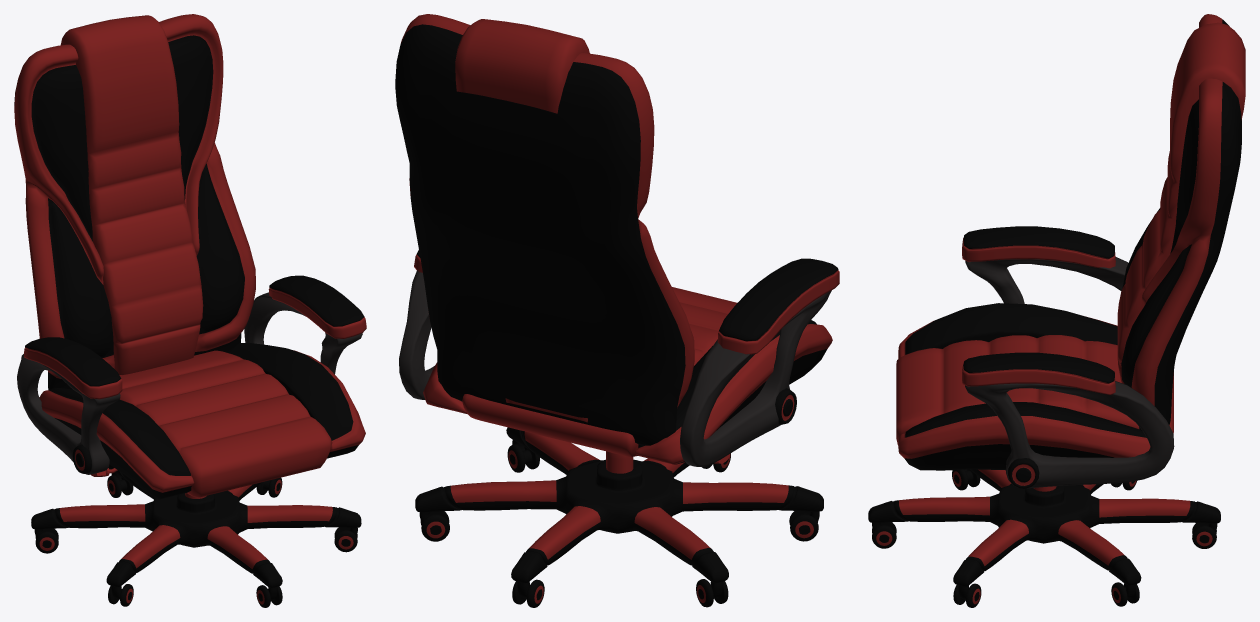
The model's file is chair.glb.
3 renders of one model, left to right at view 1: azimuth 30°, elevation 25°; view 2: azimuth 150°, elevation 25°; view 3: azimuth 270°, elevation 25°, orthographic. The views are drawn at different scales.
Visible parts, largest first — view 1: Box013_ss_0, Box013_04 - Default_0, Box018_ss_0, Box013_Material #14_0, Box018_Material #15_0, Box019_Material #15_0, Cylinder017, Cylinder022, Box019_Material #17_0, Box018_Material #17_0; view 2: Box013_04 - Default_0, Cylinder017, Box019_Material #15_0, Box013_ss_0, Box019_Material #17_0, Box018_ss_0, Box013_Material #14_0, Box018_Material #17_0, Cylinder022, Box018_Material #15_0, Cylinder020_Material #16_0, Cylinder018_Material #16_0 (+1 smaller); view 3: Cylinder022, Box018_Material #15_0, Box018_ss_0, Box013_ss_0, Box019_Material #15_0, Box013_04 - Default_0, Box013_Material #14_0, Cylinder017, Box018_Material #17_0, Box019_Material #17_0, Cylinder025, Cylinder024.
Part boxes in pixels (x1,y1,x2,y2): Box013_ss_0: (60,15,203,374); Box013_04 - Default_0: (14,35,244,390); Box018_ss_0: (119,350,332,497); Box013_Material #14_0: (14,14,255,378); Box018_Material #15_0: (49,343,358,499); Box019_Material #15_0: (31,464,361,599); Cylinder017: (17,337,122,474); Cylinder022: (244,275,366,374); Box019_Material #17_0: (59,484,332,568); Box018_Material #17_0: (39,350,365,492); Box013_04 - Default_0: (395,24,685,445); Cylinder017: (680,258,839,466); Box019_Material #15_0: (415,427,823,598); Box013_ss_0: (455,19,589,422); Box019_Material #17_0: (450,431,788,559); Box018_ss_0: (462,287,737,457); Box013_Material #14_0: (400,14,694,407); Box018_Material #17_0: (423,324,832,464); Cylinder022: (399,250,434,399); Box018_Material #15_0: (461,320,827,464); Cylinder020_Material #16_0: (789,511,818,541); Cylinder018_Material #16_0: (420,511,449,541); Cylinder022: (962,352,1174,488); Box018_Material #15_0: (904,303,1146,470); Box018_ss_0: (896,335,1173,445); Box013_ss_0: (1117,22,1245,383); Box019_Material #15_0: (868,469,1220,599); Box013_04 - Default_0: (1121,19,1241,430); Box013_Material #14_0: (1131,14,1222,405); Cylinder017: (962,226,1128,303); Box018_Material #17_0: (898,316,1150,458); Box019_Material #17_0: (899,469,1190,565); Cylinder025: (872,522,896,548); Cylinder024: (1192,523,1216,548).
Bounding box in the file's own units: 358 × 573 × 389.
